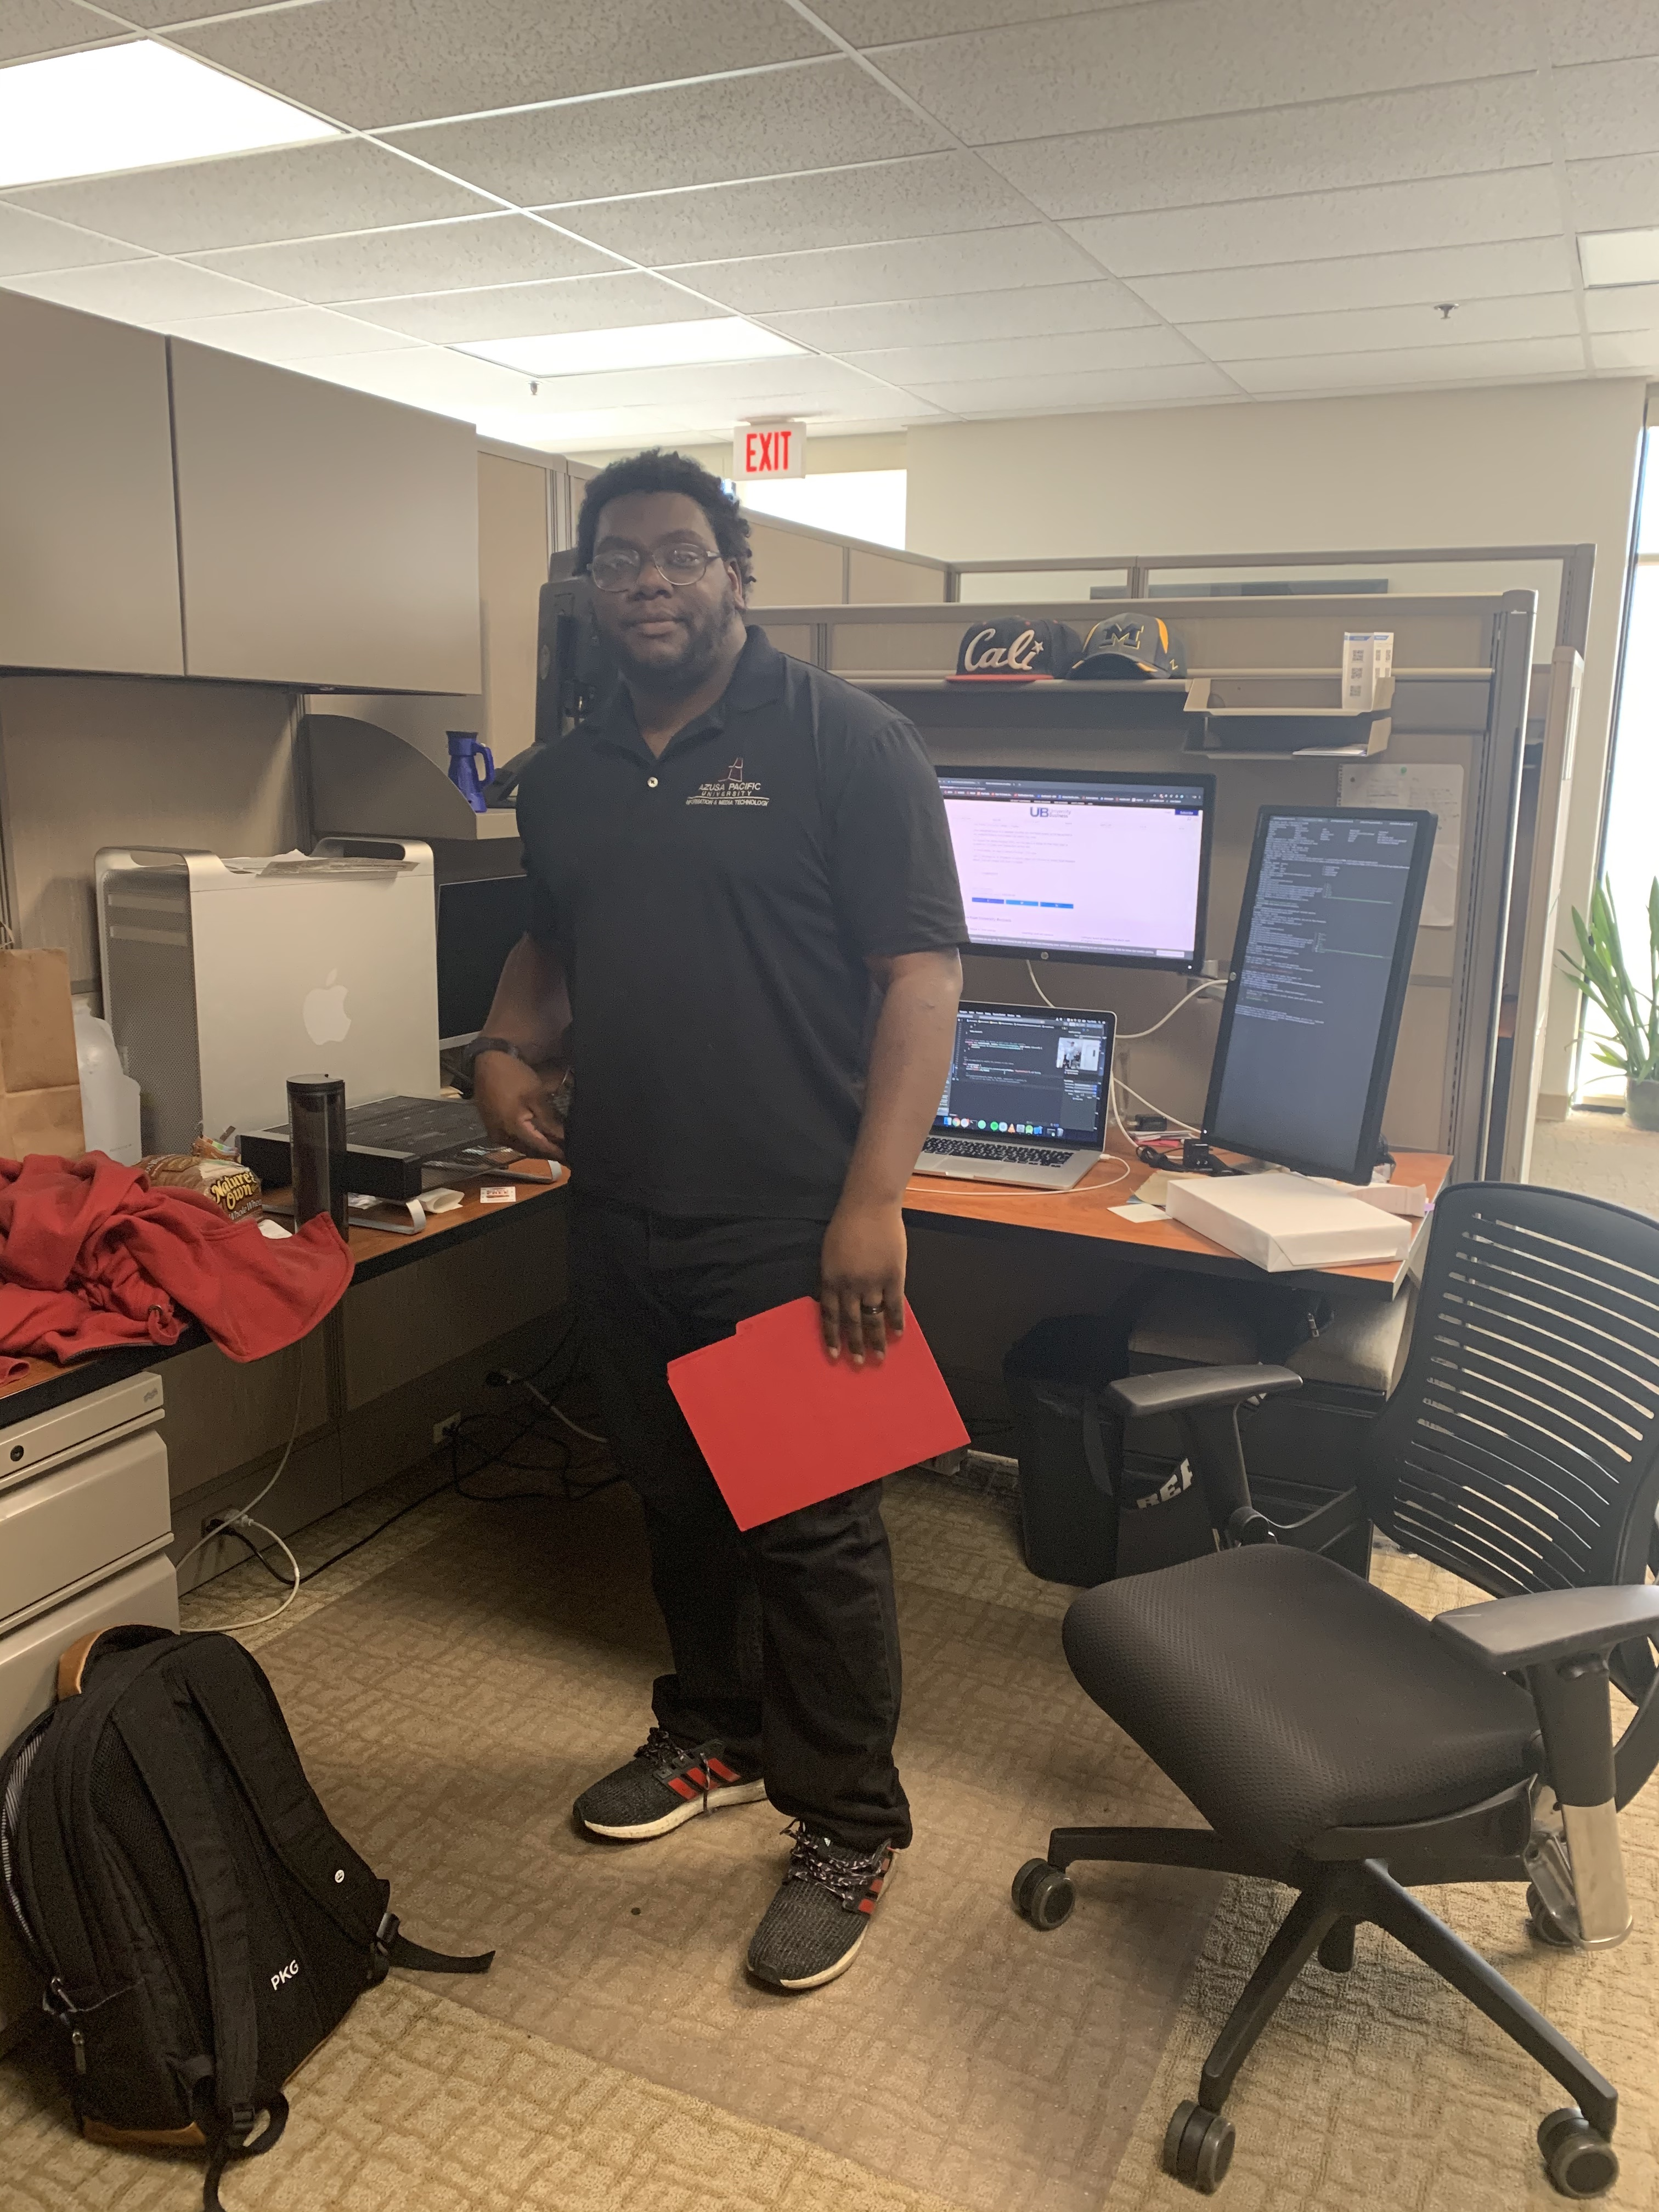red folder: (652, 1284, 985, 1538)
